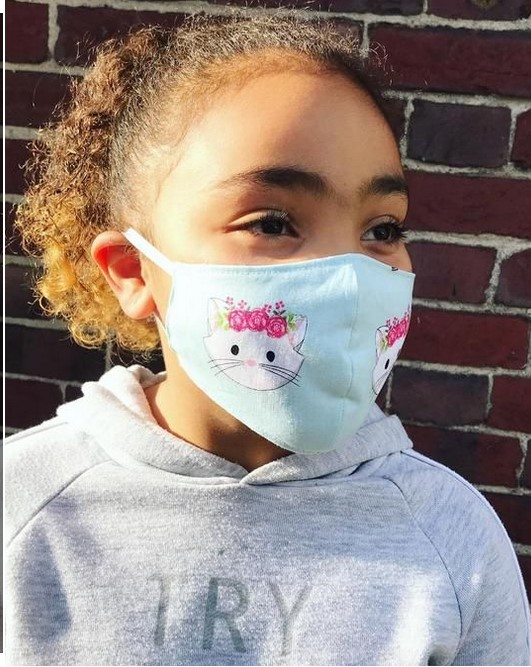face_with_mask: (60, 18, 422, 460)
